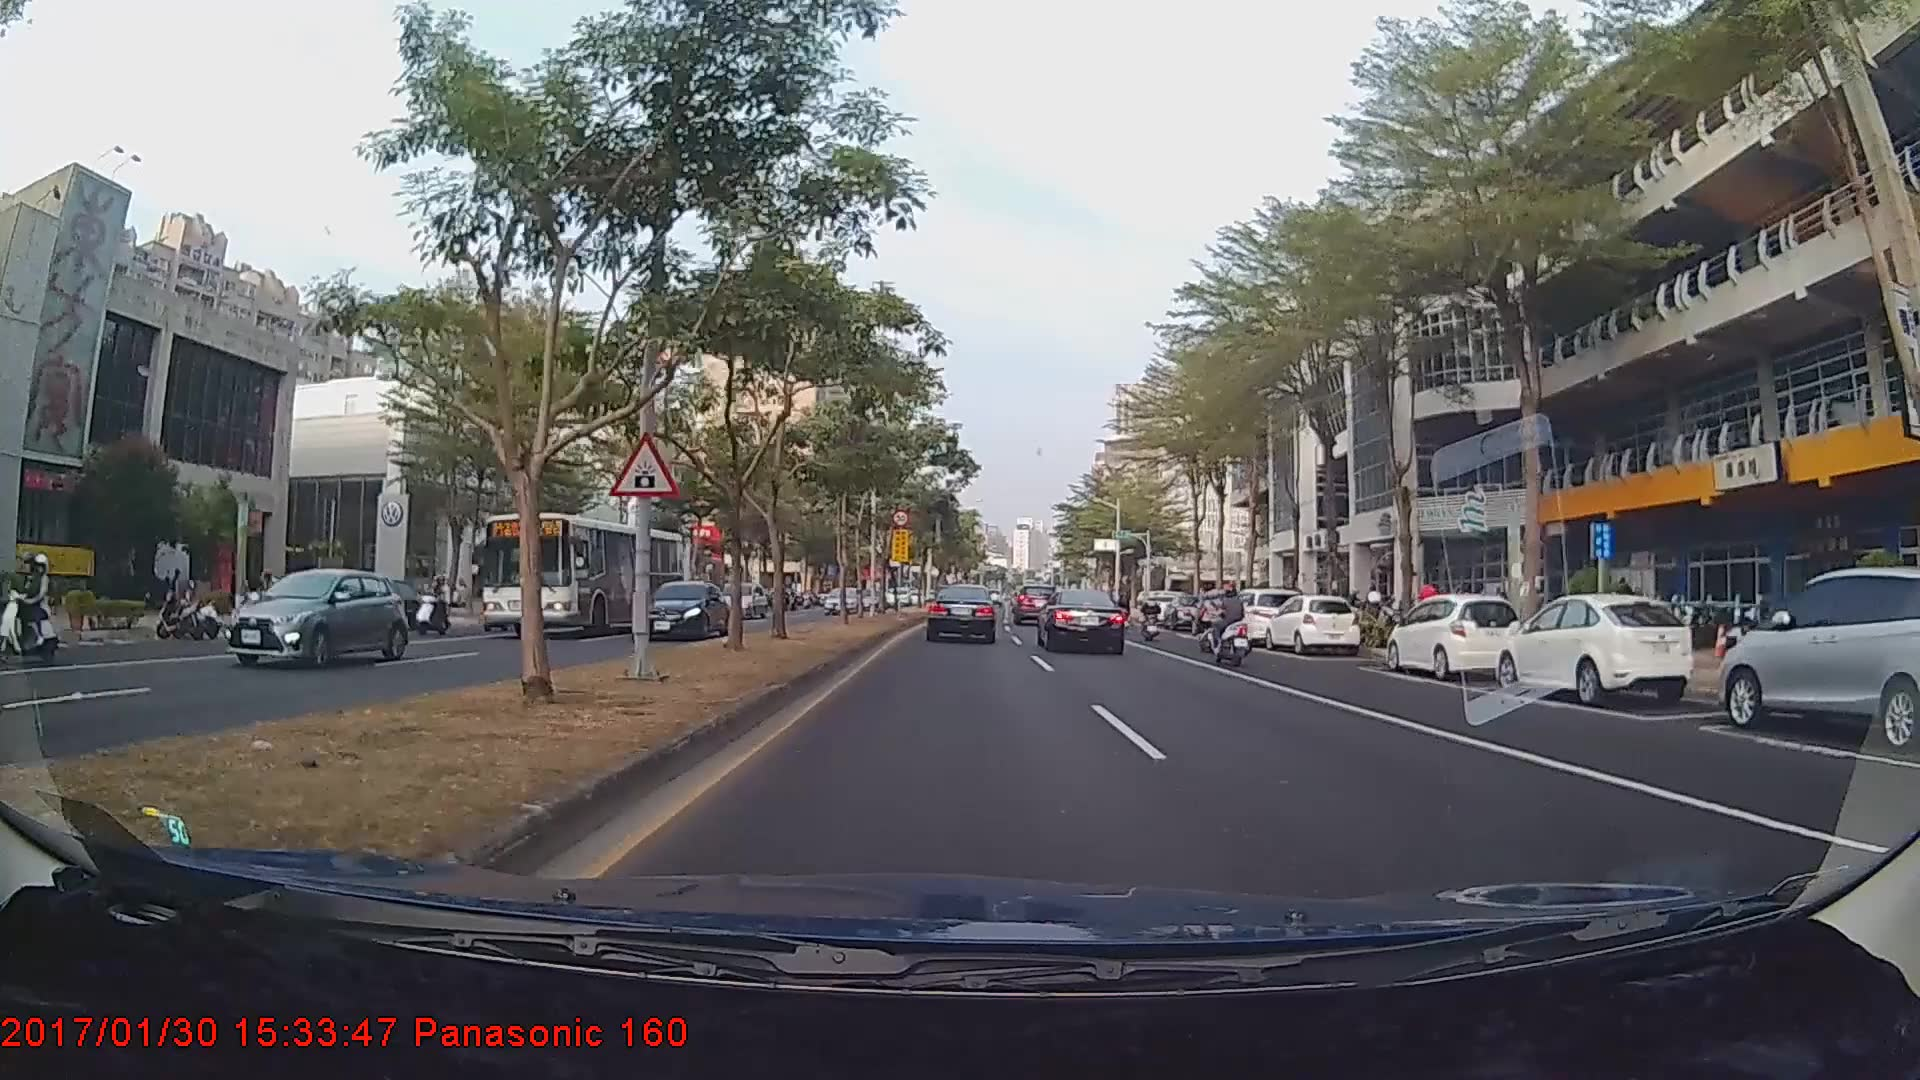rider: (1205, 582, 1258, 669), (411, 575, 459, 638), (1197, 589, 1240, 653), (1140, 586, 1166, 642)
vehicle: (1716, 565, 1920, 752), (481, 512, 688, 639), (1493, 592, 1693, 707), (221, 567, 407, 667), (1388, 593, 1526, 681), (1036, 586, 1127, 655), (1265, 594, 1358, 655), (636, 577, 729, 638), (1214, 583, 1303, 640), (926, 581, 1000, 643), (712, 582, 767, 619), (1011, 583, 1059, 624), (819, 583, 862, 612)
